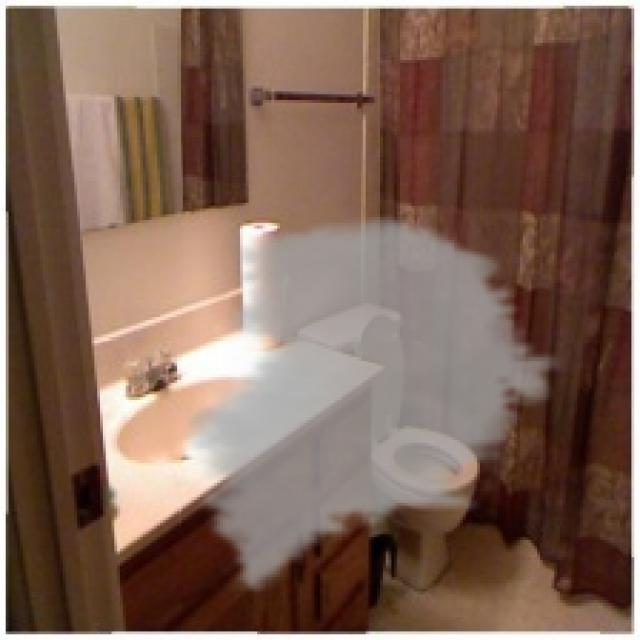Smoke: (171, 212, 566, 594)
